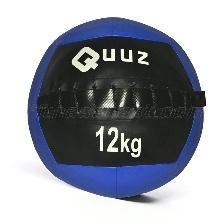Sports-Ball: (23, 17, 207, 215)
